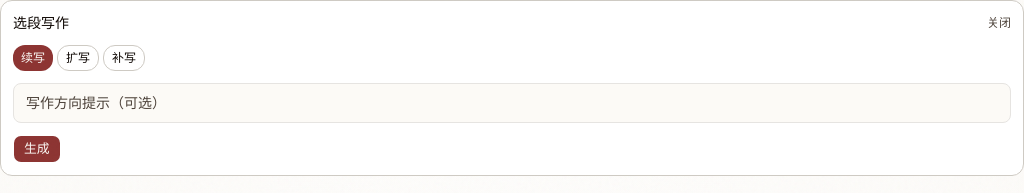
Test: InlineWritePanel › shows expansion direction badges when expansion mode selected
Click the button "扩写".
click(78, 58)  # box [57,45,99,71]
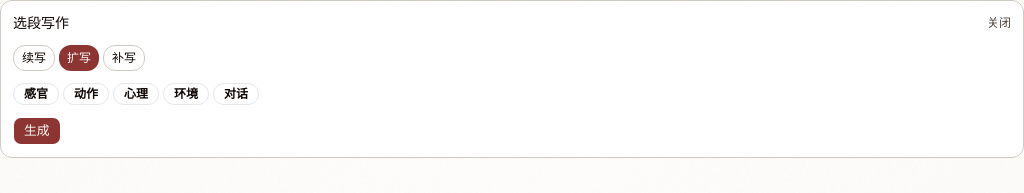
Now the text "感官" is shown, box [13,83,59,105]
Now the text "动作" is shown, box [63,83,109,105]
Now the text "心理" is shown, box [113,83,159,105]
